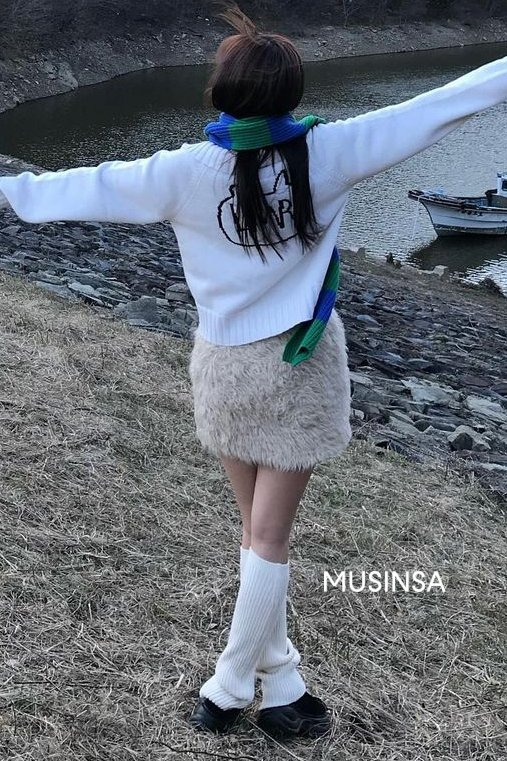Muffler: (192, 112, 335, 153)
Shoes: (191, 681, 340, 741)
Skirt: (184, 320, 375, 479)
Top: (87, 135, 405, 334)
